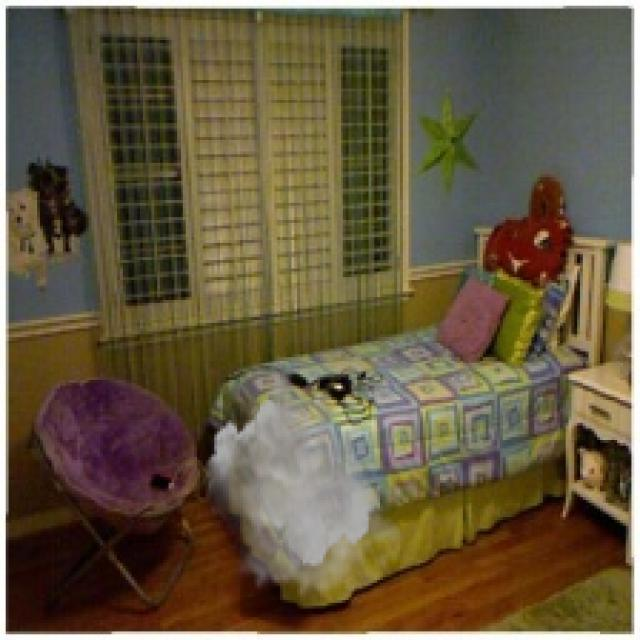smoke: (203, 351, 406, 600)
